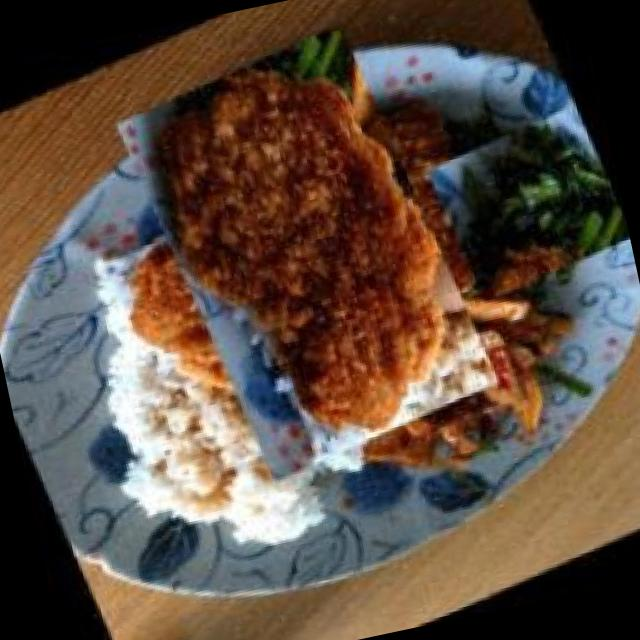fried_chicken: (80, 28, 534, 480)
rice: (96, 368, 323, 578)
water_spinach: (419, 89, 638, 316)
